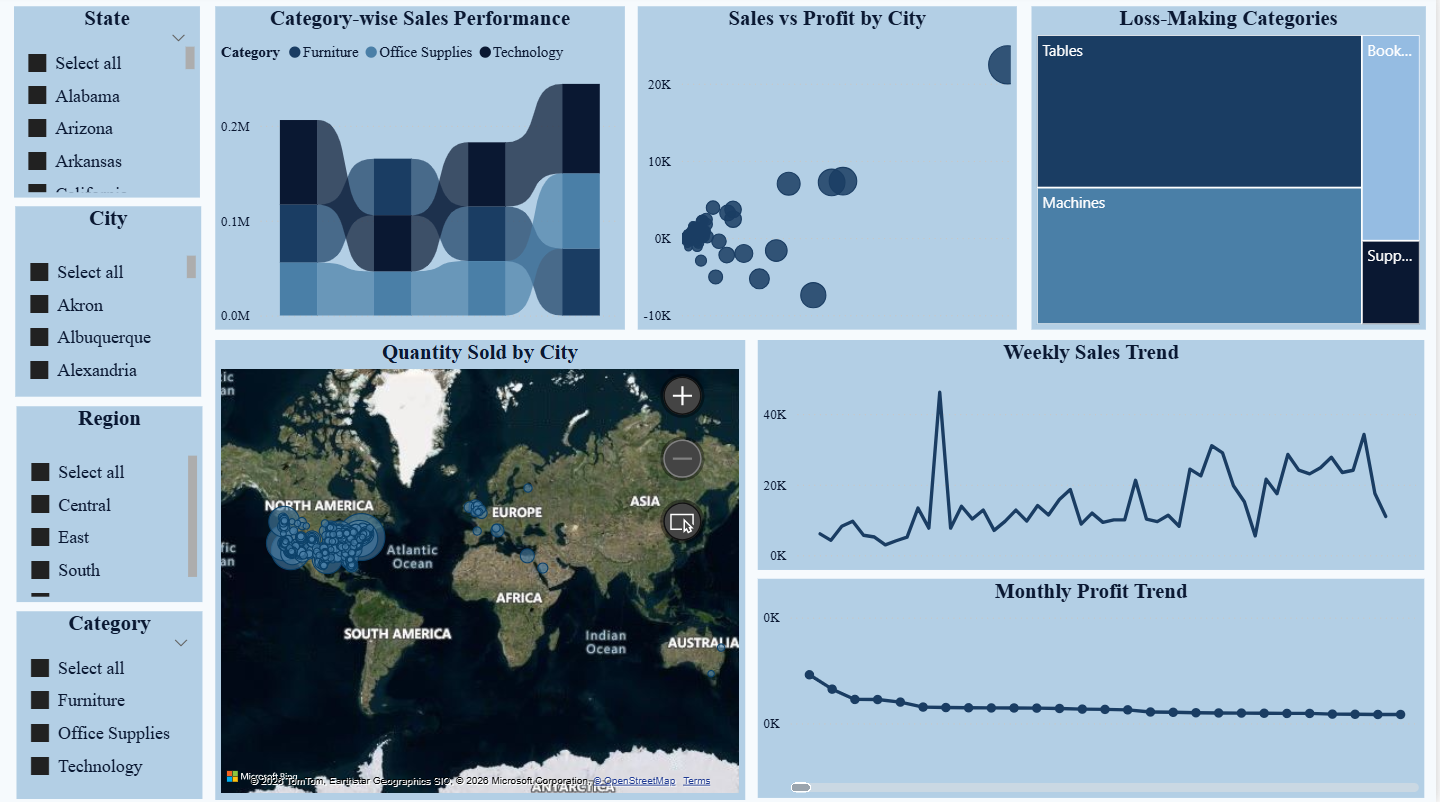

The page's visual inventory and layout, read from the dashboard file:
{"tool":"powerbi","page":{"name":"Time & Regional Analysis","canvas":[1280,720],"ordinal":2},"visuals":[{"type":"slicer","title":"State","fields":{"Values":["Sales.State"]},"box":[13.5,9.8,165.6,170.6],"z":0},{"type":"slicer","title":"City","fields":{"Values":["Sales.City"]},"box":[14.3,188.5,165.6,169.3],"z":1000},{"type":"slicer","title":"Region","fields":{"Values":["People.Region"]},"box":[15.1,366.1,165.6,174.2],"z":2000},{"type":"slicer","title":"Category","fields":{"Values":["Sales.Category"]},"box":[16,548.5,165.6,166.9],"z":3000},{"type":"lineChart","title":"Monthly Profit Trend","fields":{"Category":["Sales.Month"],"Y":["Sales.Total Profit"]},"box":[676.1,520.2,593.9,195.1],"z":4000},{"type":"lineChart","title":"Weekly Sales Trend","fields":{"Y":["Sales.Total Sales"],"Category":["Sales.Week Number"]},"box":[676.1,306.8,593.9,204.9],"z":5000},{"type":"ribbonChart","title":"Category-wise Sales Performance","fields":{"Series":["Sales.Category"],"Category":["Sales.Year"],"Y":["Sales.Total Sales"]},"box":[192.6,9.8,364.4,288.3],"z":6000},{"type":"scatterChart","title":"Sales vs Profit by City","fields":{"X":["Sales.Total Sales"],"Y":["Sales.Total Profit"],"Category":["Sales.City"],"Size":["Sales.Total Sales"]},"box":[569.3,9.8,337.4,288.3],"z":7000},{"type":"treemap","title":"Loss-Making Categories","fields":{"Values":["Sales.Total Profit"],"Group":["Sales.Sub-Category"]},"box":[919,9.8,350.9,288.3],"z":8000},{"type":"map","title":"Quantity Sold by City","fields":{"Category":["Sales.City"],"Size":["Sales.Total Quantity"]},"box":[192.6,306.8,471.2,408.6],"z":9000}]}

Visuals, with their boxes in screenshot pixels (x1, y1, x2, y2), scaled from the page's 1280x720 canvas onto the 1440x802 screenshot:
"State" slicer: (15,11,201,201)
"City" slicer: (16,210,202,399)
"Region" slicer: (17,408,203,602)
"Category" slicer: (18,611,204,797)
"Monthly Profit Trend" lineChart: (761,579,1429,797)
"Weekly Sales Trend" lineChart: (761,342,1429,570)
"Category-wise Sales Performance" ribbonChart: (217,11,627,332)
"Sales vs Profit by City" scatterChart: (640,11,1020,332)
"Loss-Making Categories" treemap: (1034,11,1429,332)
"Quantity Sold by City" map: (217,342,747,797)
